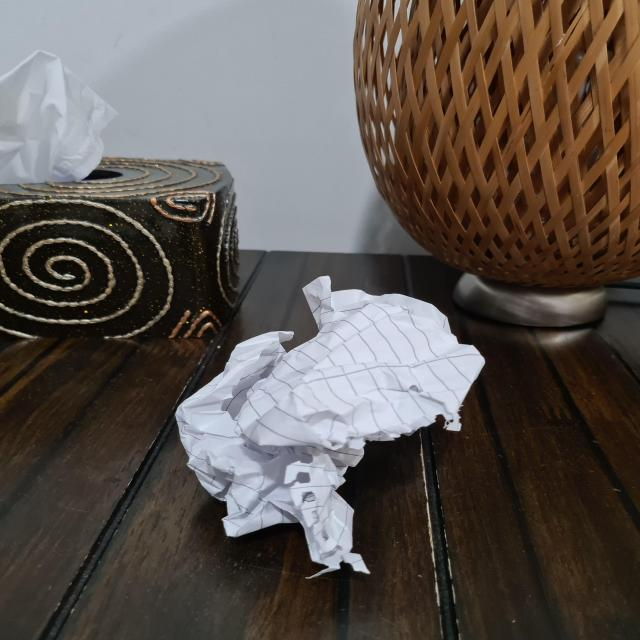kertas: (178, 290, 476, 544)
